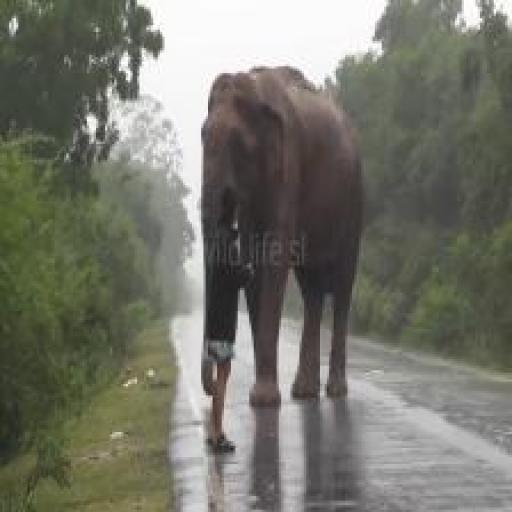Elephant: (178, 55, 377, 464)
